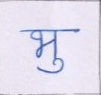u_matra: (37, 58, 66, 74)
